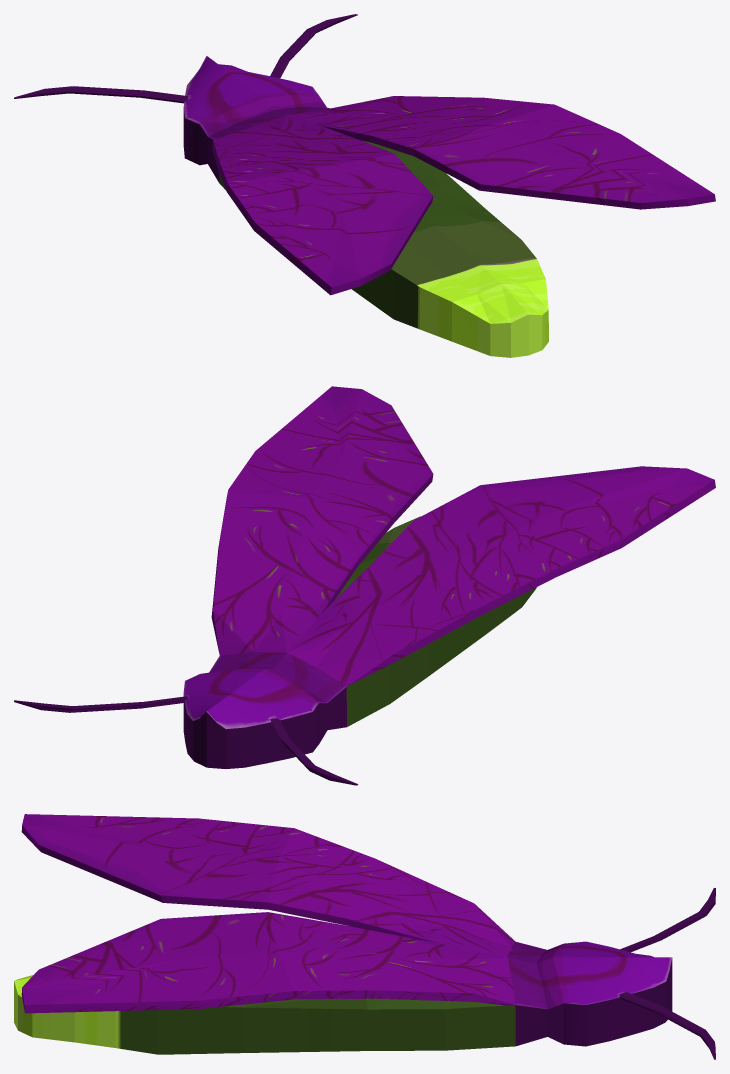
File: luciole.FBX
3 renders of one model, top to bottom at view 1: azimuth 30°, elevation 25°; view 2: azimuth 150°, elevation 25°; view 3: azimuth 270°, elevation 25°, orthographic. The views are drawn at different scales.
Visible parts, largest first — view 1: Box001; view 2: Box001; view 3: Box001.
Boxes of the visible parts, bbox=[...] form: Box001: bbox=[14, 14, 715, 357]; Box001: bbox=[14, 386, 715, 785]; Box001: bbox=[14, 814, 715, 1059].
Bounding box in the file's own units: 5.71 × 1.72 × 8.81.
1 material, 1 textured.
